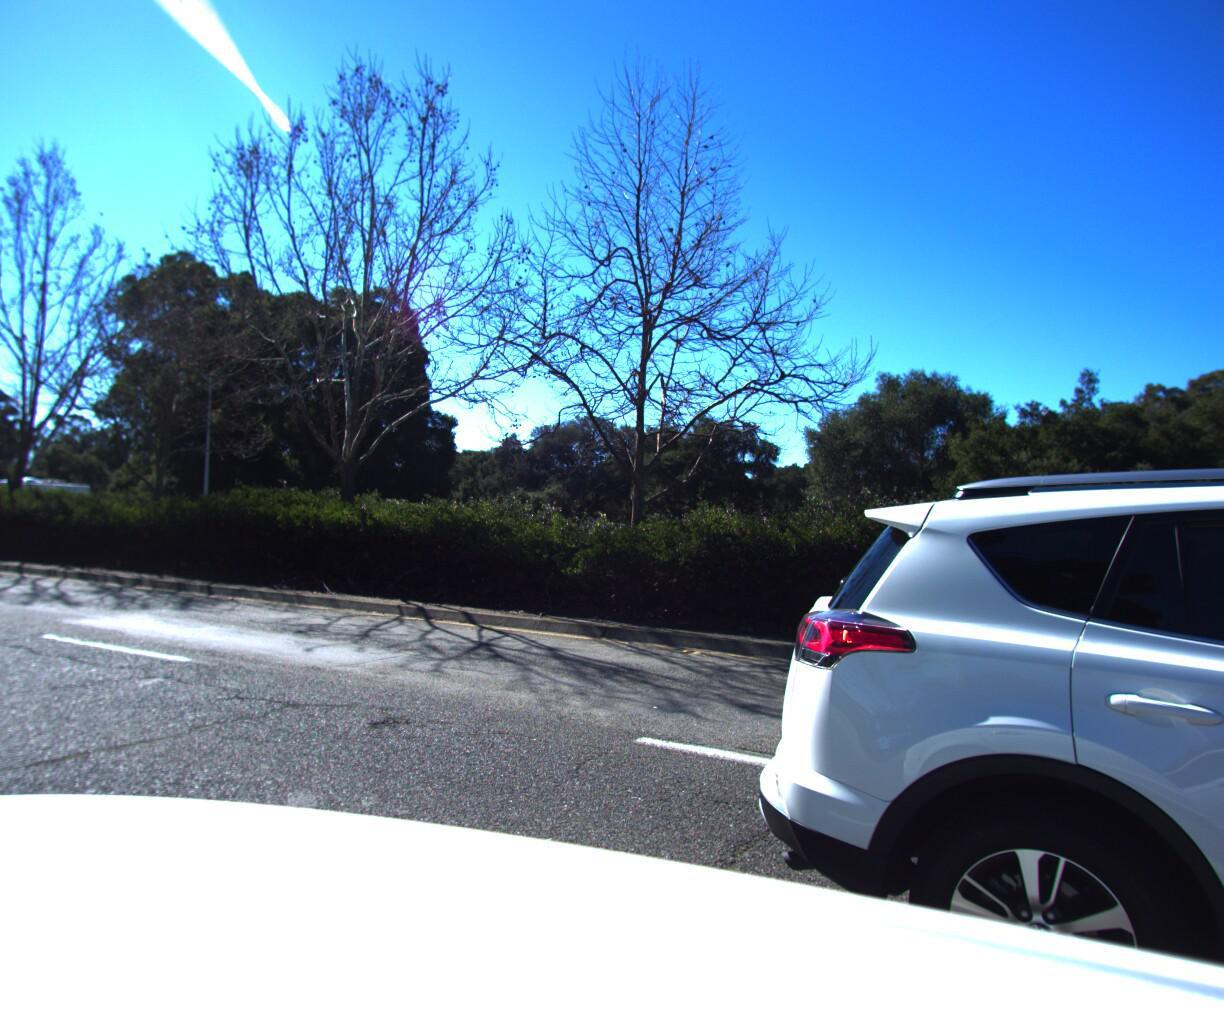car: (682, 373, 1224, 1024)
other_vehicle: (0, 469, 95, 537)
